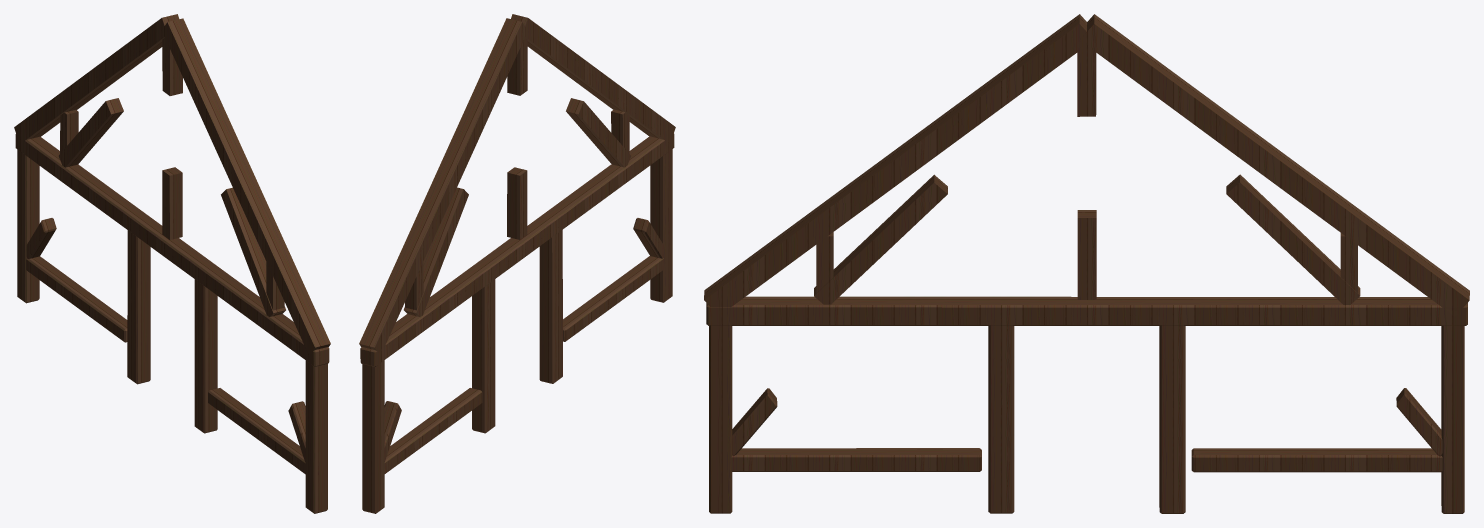
Rendered from SM_HH_Q3_Timber_Front.fbx.
3 renders of one model, left to right at view 1: azimuth 30°, elevation 25°; view 2: azimuth 150°, elevation 25°; view 3: azimuth 270°, elevation 25°, orthographic. The views are drawn at different scales.
Visible parts, largest first — view 1: HH_Q3_Timber_Front; view 2: HH_Q3_Timber_Front; view 3: HH_Q3_Timber_Front.
Boxes of the visible parts, bbox=[...] form: HH_Q3_Timber_Front: bbox=[14, 14, 330, 513]; HH_Q3_Timber_Front: bbox=[359, 14, 675, 513]; HH_Q3_Timber_Front: bbox=[704, 14, 1469, 513].
Bounding box in the file's own units: 8.91 × 0.2737 × 6.31.
